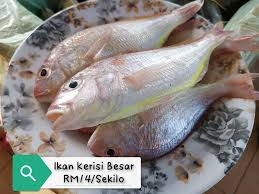Ikan Kerisi: (26, 5, 199, 88), (45, 59, 226, 134), (93, 94, 237, 160)
